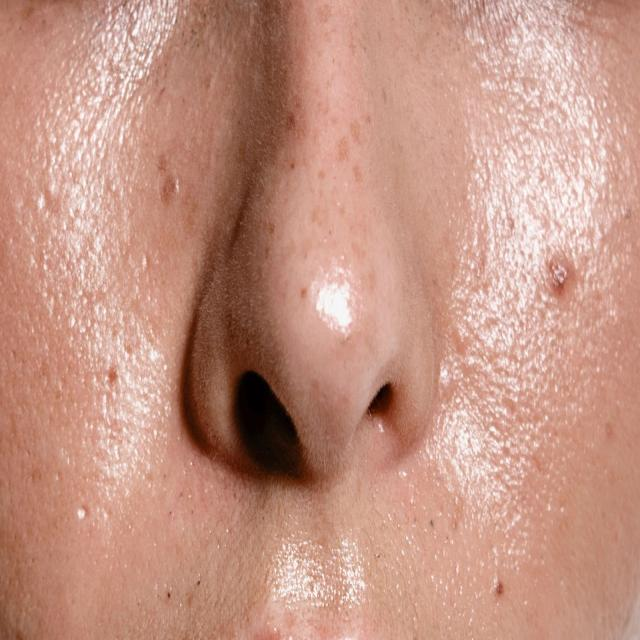Oily-Skin: (423, 61, 640, 636), (6, 14, 165, 640), (225, 26, 393, 358), (179, 493, 421, 640)
